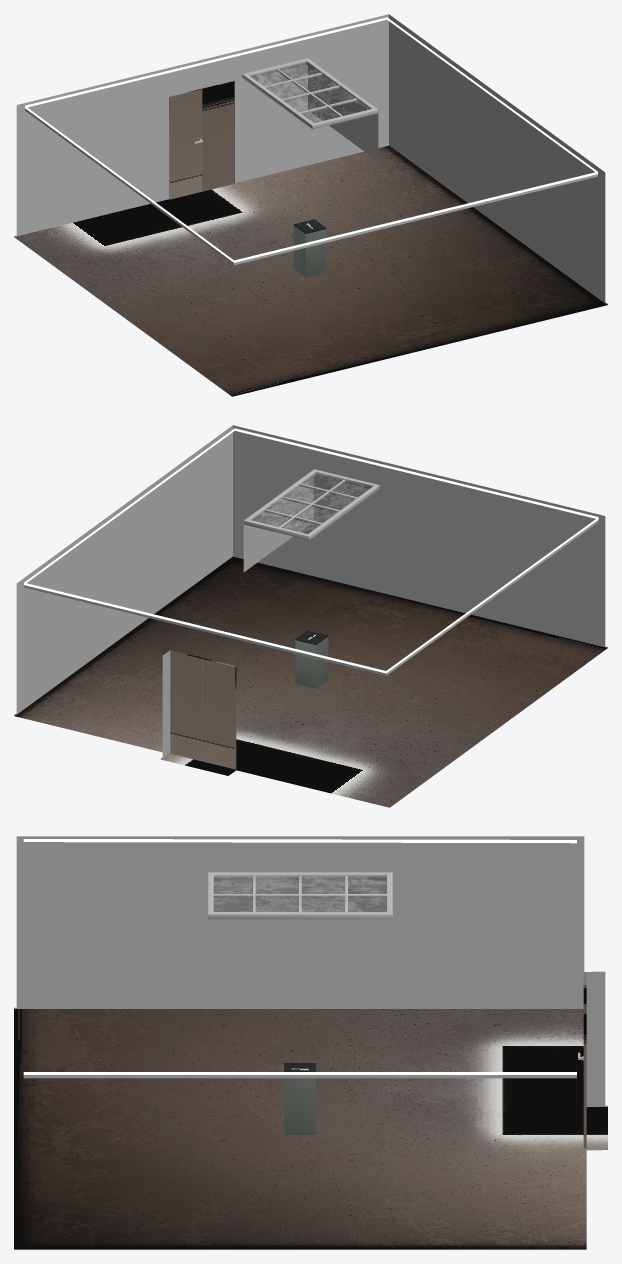
3 views of the same model, one above another, from view 1: azimuth 30°, elevation 25°; view 2: azimuth 150°, elevation 25°; view 3: azimuth 270°, elevation 25° (orthographic). The views are drawn at different scales.
Visible parts, largest first — view 1: gallery, glass001, podium; view 2: gallery, glass001, podium; view 3: gallery, glass001, podium.
Boxes of the visible parts, x1,y1,x2,y2 form: gallery: [14, 14, 607, 396]; glass001: [251, 63, 369, 122]; podium: [293, 225, 326, 277]; gallery: [14, 425, 607, 807]; glass001: [252, 474, 370, 533]; podium: [295, 636, 328, 688]; gallery: [14, 836, 607, 1249]; glass001: [214, 877, 386, 911]; podium: [284, 1078, 316, 1134].
Size of the model in its own units: 803 by 366 by 837.
